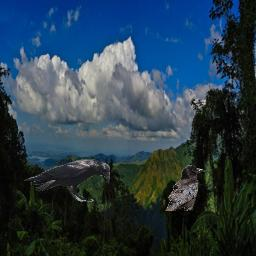Crow: (24, 159, 110, 202), (165, 165, 205, 211)
